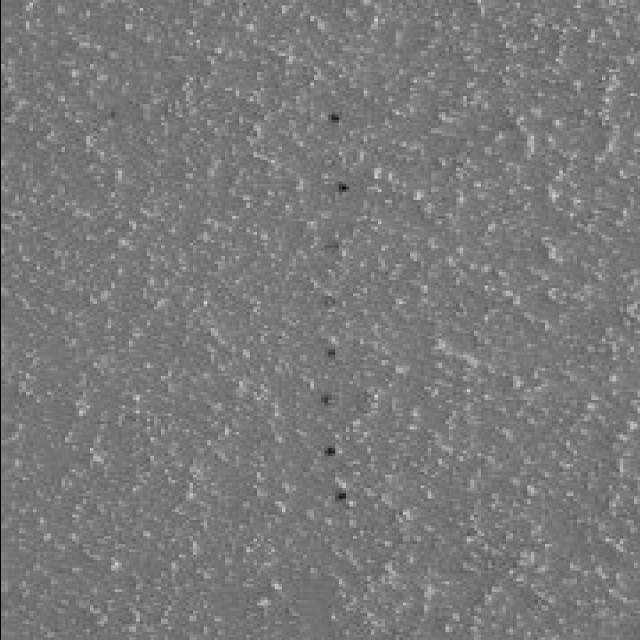pin holes: (314, 228, 349, 266), (315, 283, 357, 313), (315, 111, 346, 138), (328, 484, 356, 513), (310, 392, 339, 416), (323, 328, 339, 368), (320, 443, 345, 464), (335, 172, 353, 198)
